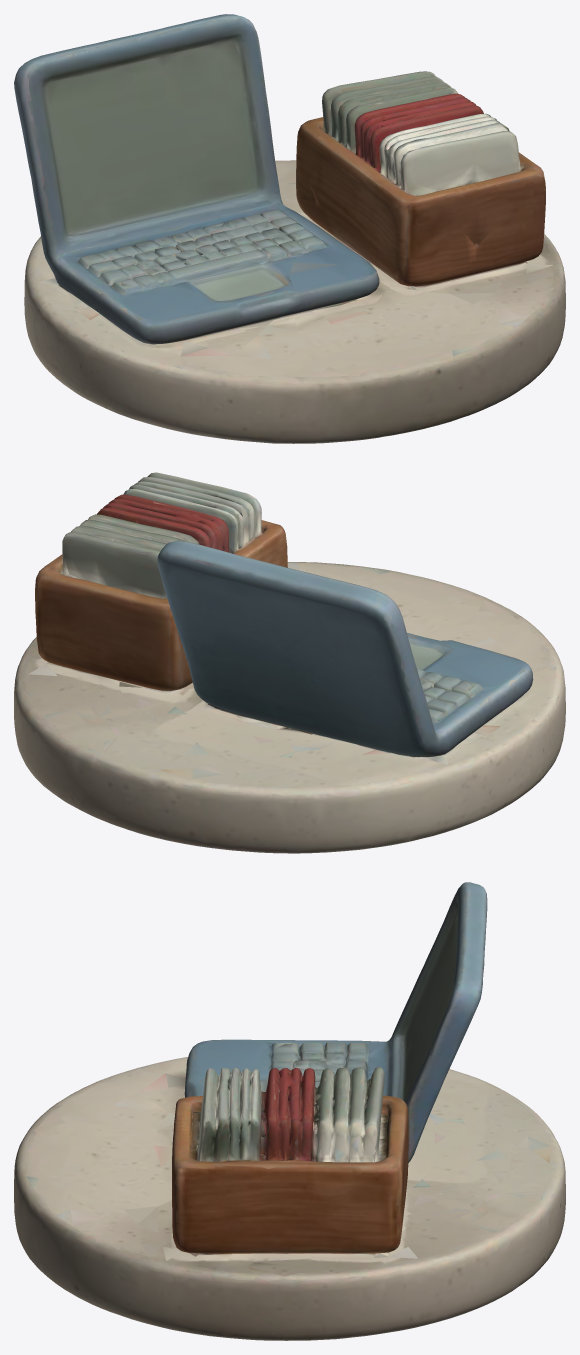
File: sc-laptop-index.glb
3 renders of one model, top to bottom at view 1: azimuth 30°, elevation 25°; view 2: azimuth 150°, elevation 25°; view 3: azimuth 270°, elevation 25°, orthographic. The views are drawn at different scales.
Visible parts, largest first — view 1: geometry_0; view 2: geometry_0; view 3: geometry_0.
Boxes of the visible parts, x1,y1,x2,y2 form: geometry_0: (14, 14, 565, 443); geometry_0: (14, 472, 565, 853); geometry_0: (14, 882, 565, 1340).
Size of the model in its own units: 1 by 0.5297 by 1.
Materials: 1 (1 with a texture image).
